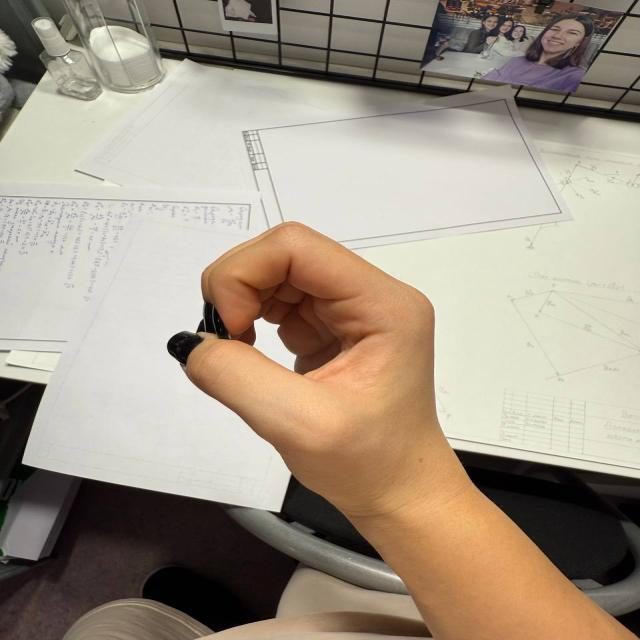e: (151, 215, 449, 485)
